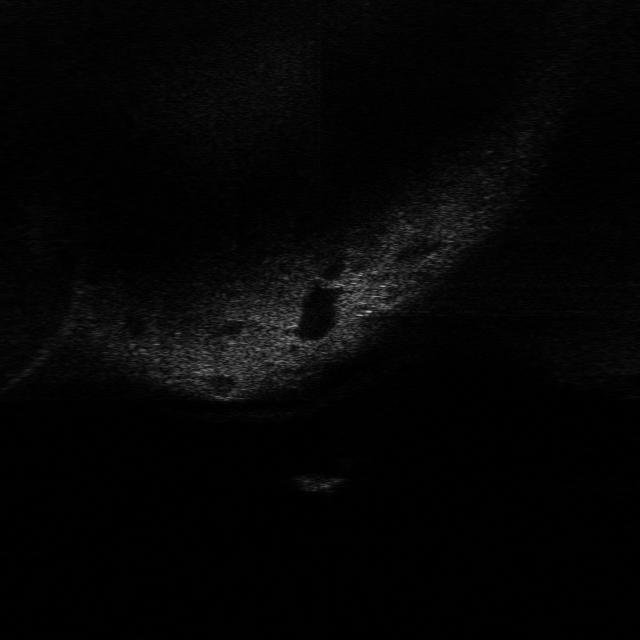cube: (289, 472, 347, 496)
